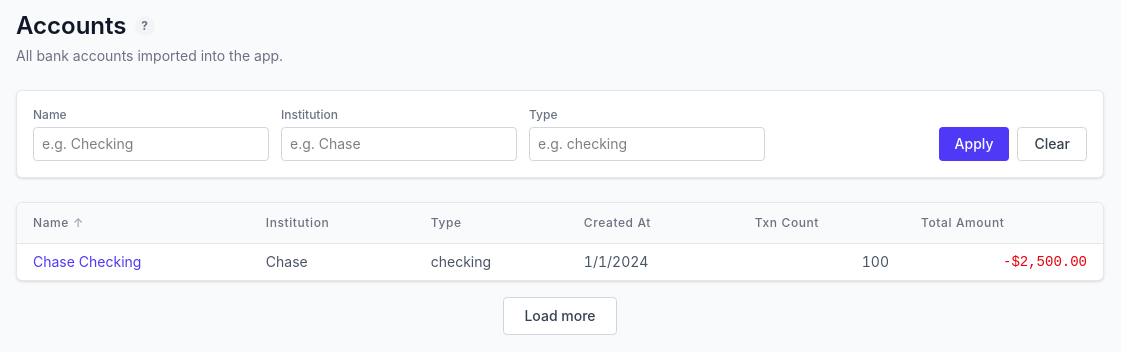
Test: AccountsPage › shows Load more button when hasMore is true and appends items on click
Expected: the link "Chase Checking" is shown, left=33, top=253, right=142, bottom=270
Click the button "Load more".
click(560, 316)  # box left=503, top=297, right=616, bottom=335
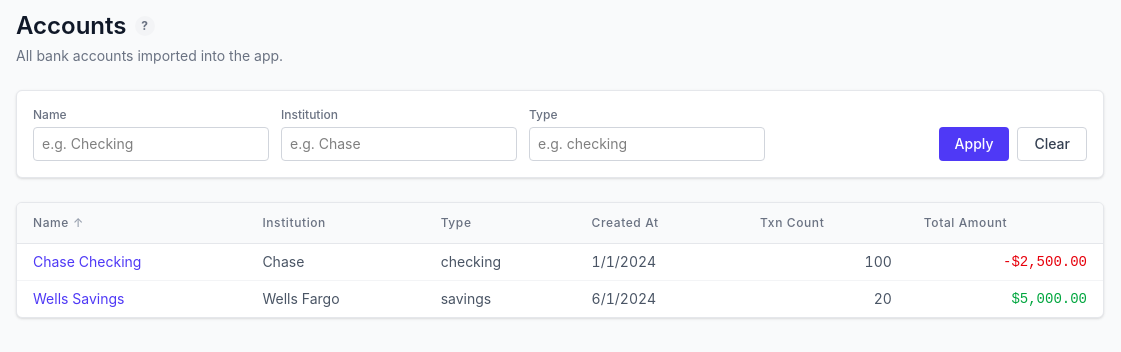
Expected: the link "Chase Checking" is shown, left=33, top=253, right=142, bottom=270
Expected: the link "Wells Savings" is shown, left=33, top=290, right=124, bottom=307
